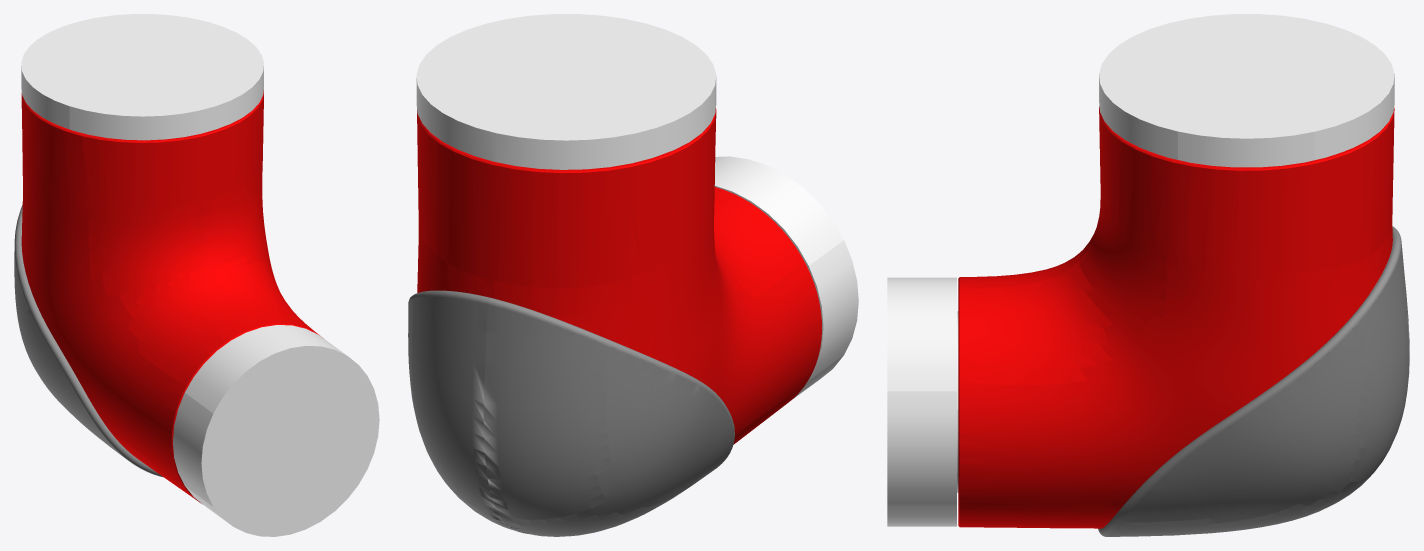
3 views of the same model, side by side, from view 1: azimuth 30°, elevation 25°; view 2: azimuth 150°, elevation 25°; view 3: azimuth 270°, elevation 25° (orthographic). The views are drawn at different scales.
Visible parts, largest first — view 1: _3DGeom_31, _3DGeom_30, _3DGeom_29; view 2: _3DGeom_31, _3DGeom_29, _3DGeom_30; view 3: _3DGeom_31, _3DGeom_30, _3DGeom_29.
Boxes of the visible parts, x1,y1,x2,y2 form: _3DGeom_31: (21,90,323,504); _3DGeom_30: (21,14,379,536); _3DGeom_29: (14,205,163,477); _3DGeom_31: (417,109,821,444); _3DGeom_29: (408,290,734,536); _3DGeom_30: (416,14,858,399); _3DGeom_31: (958,106,1394,528); _3DGeom_30: (887,14,1394,526); _3DGeom_29: (1098,226,1409,536).
Bounding box in the file's own units: 0.1084 × 0.1838 × 0.1739.
